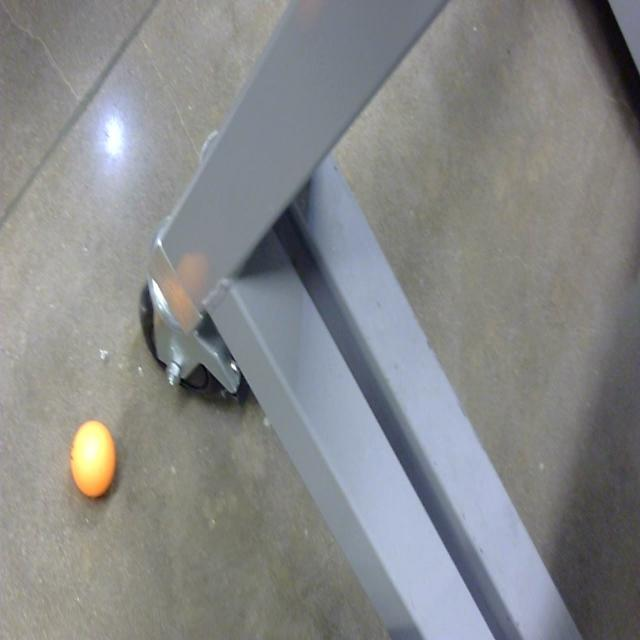ball: (70, 418, 120, 502)
